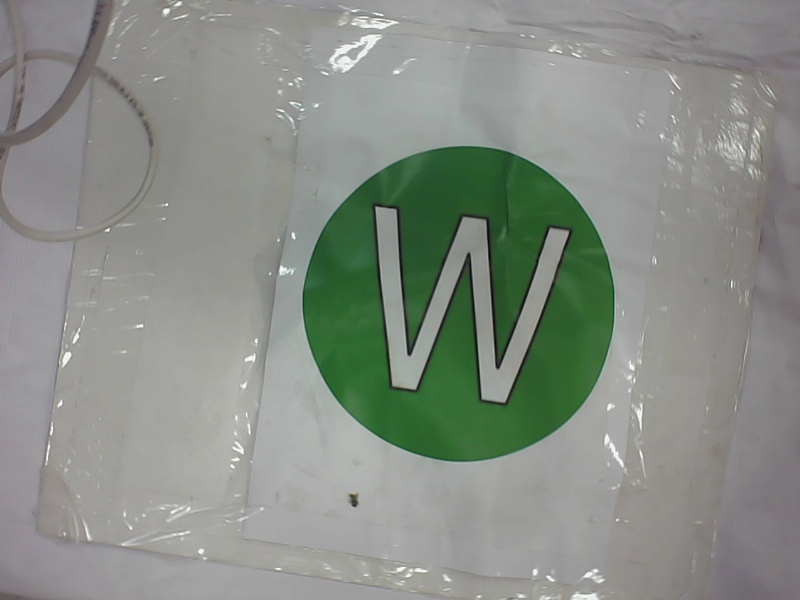areaB: (300, 138, 622, 471)
